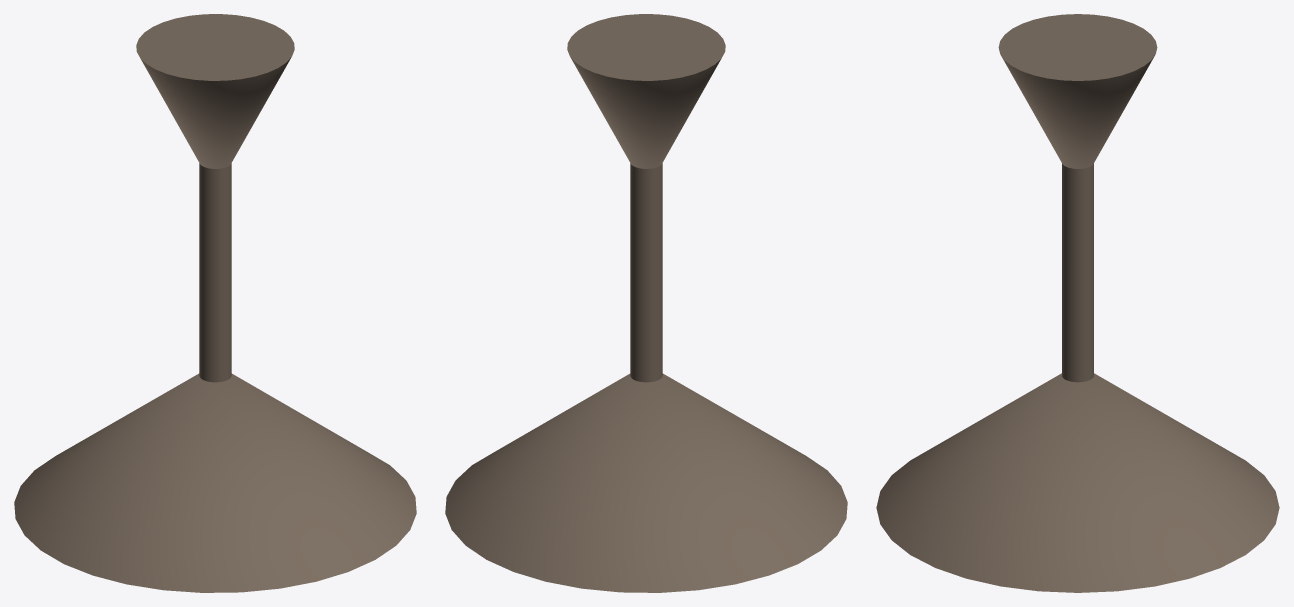
File: binnnenlamp1.fbx
The picture shows the model from 3 angles, left to right: view 1: azimuth 30°, elevation 25°; view 2: azimuth 150°, elevation 25°; view 3: azimuth 270°, elevation 25°; orthographic projection.
Visible parts, largest first — view 1: Cone.001, Cone, Cylinder; view 2: Cone.001, Cone, Cylinder; view 3: Cone.001, Cone, Cylinder.
Boxes of the visible parts, <box> form: Cone.001: <box>14,373,416,592</box>; Cone: <box>136,14,294,168</box>; Cylinder: <box>199,163,231,382</box>; Cone.001: <box>445,373,847,592</box>; Cone: <box>567,14,725,168</box>; Cylinder: <box>630,163,662,382</box>; Cone.001: <box>876,373,1279,592</box>; Cone: <box>998,14,1157,168</box>; Cylinder: <box>1062,163,1093,382</box>.
Size of the model in its own units: 508 by 640 by 508.
